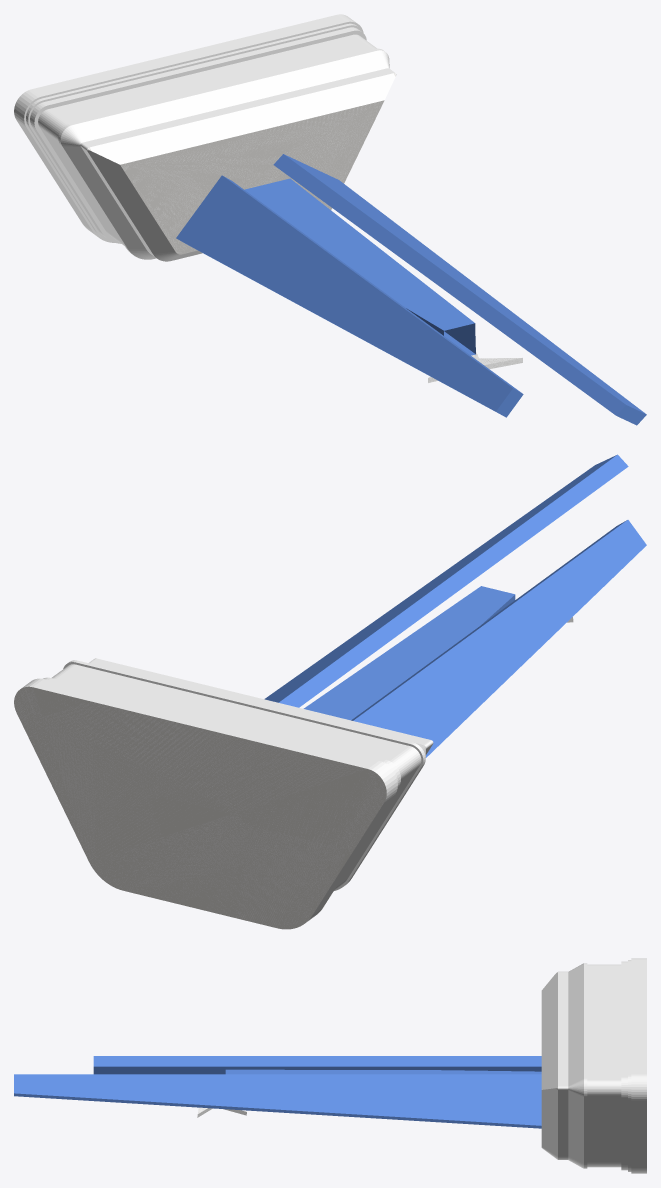
The picture shows the model from 3 angles, top to bottom: view 1: azimuth 30°, elevation 25°; view 2: azimuth 150°, elevation 25°; view 3: azimuth 270°, elevation 25°; orthographic projection. The views are drawn at different scales.
Visible parts, largest first — view 1: glass trophy; view 2: glass trophy; view 3: glass trophy.
Part boxes in pixels (left/top/right/bottom): glass trophy: left=14, top=14, right=646, bottom=425; glass trophy: left=14, top=454, right=646, bottom=929; glass trophy: left=14, top=958, right=646, bottom=1173.
Size of the model in its own units: 73.01 by 33.96 by 153.
